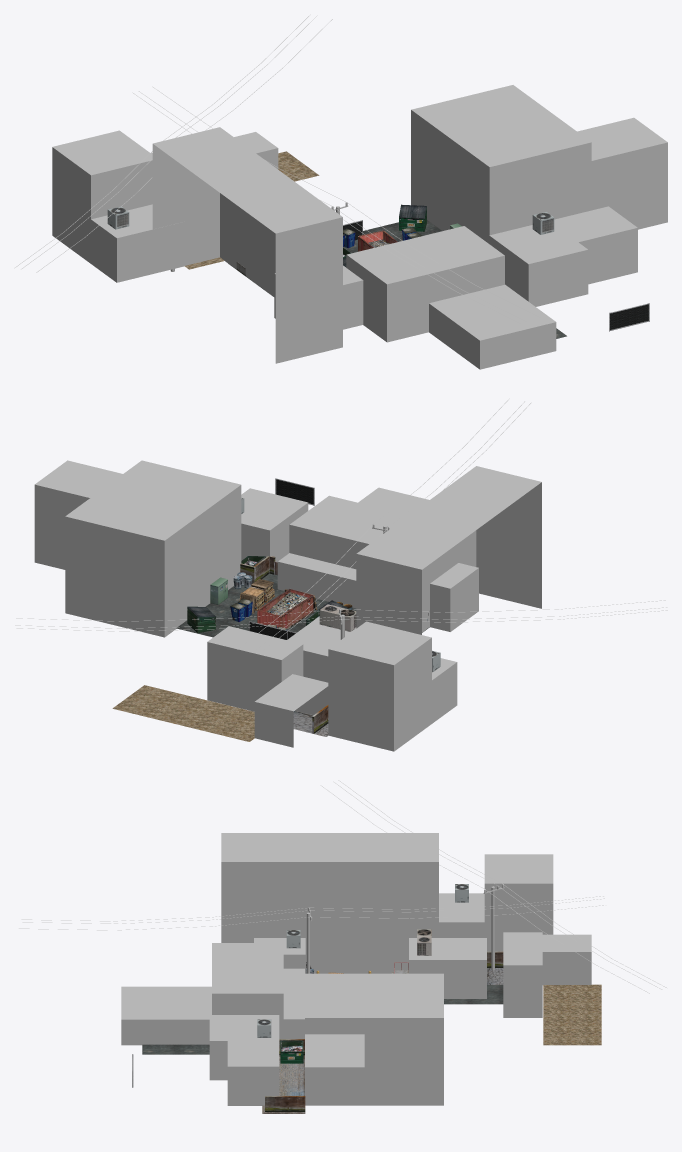
File: level1_7.fbx
The picture shows the model from 3 angles, top to bottom: view 1: azimuth 30°, elevation 25°; view 2: azimuth 150°, elevation 25°; view 3: azimuth 270°, elevation 25°; orthographic projection. The views are drawn at different scales.
Parts seen in each view (by area): view 1: warehouse1, aptBuild2, building1, derelictWarehouse, smallWarehouse2, apt2, apt3, modernApt3, modernApt2, fenceGate1, apt1, grass2 (+3 smaller); view 2: aptBuild2, warehouse1, building1, derelictWarehouse, apt1, apt2, grass2, apt3, shop1, modernApt2, building2, street1 (+5 smaller); view 3: warehouse1, aptBuild2, building1, derelictWarehouse, smallWarehouse2, building2, grass2, apt1, modernApt3, shop1, apt3, apt2 (+6 smaller).
Boxes of the visible parts, x1,y1,x2,y2 form: warehouse1: (152,127,342,363); aptBuild2: (411,85,591,243); building1: (52,130,184,282); derelictWarehouse: (346,226,504,342); smallWarehouse2: (429,284,556,369); apt2: (577,117,667,229); apt3: (489,225,588,306); modernApt3: (554,206,637,284); modernApt2: (274,265,363,329); fenceGate1: (609,303,649,331); apt1: (234,132,278,169); grass2: (278,151,319,181); aptBuild2: (65,460,241,637); warehouse1: (356,466,541,634); building1: (328,621,457,751); derelictWarehouse: (277,495,408,608); apt1: (207,626,303,711); apt2: (34,460,122,569); grass2: (112,685,254,741); apt3: (241,488,308,573); shop1: (254,674,328,747); modernApt2: (430,563,478,631); building2: (287,616,356,682); street1: (176,585,429,637); warehouse1: (221,833,438,973); aptBuild2: (305,973,443,1105); building1: (439,854,553,951); derelictWarehouse: (212,943,304,1038); smallWarehouse2: (121,986,211,1045); building2: (409,938,486,998); grass2: (543,984,601,1045); apt1: (503,932,542,1017); modernApt3: (227,1041,279,1105); shop1: (542,934,591,984); apt3: (209,1015,279,1080); apt2: (305,1034,364,1067).
Bounding box in the file's own units: 845 × 207 × 852.
